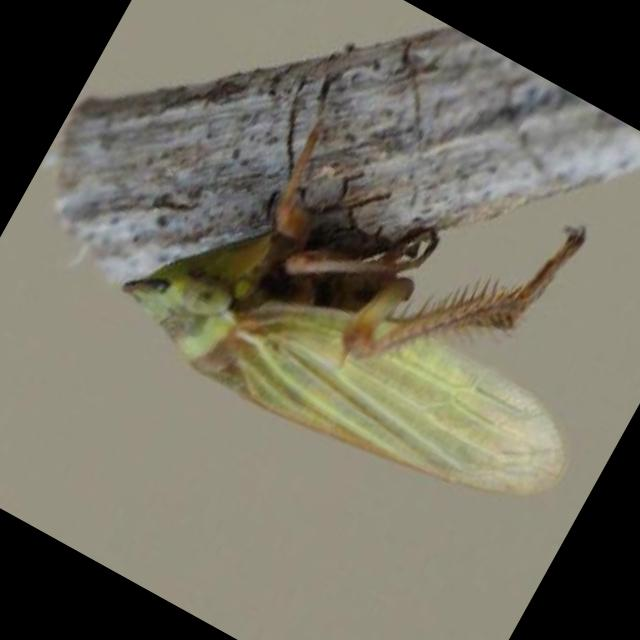green-leafhopper: (108, 43, 640, 553)
